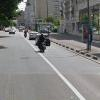Motorcycle: (32, 31, 52, 56)
